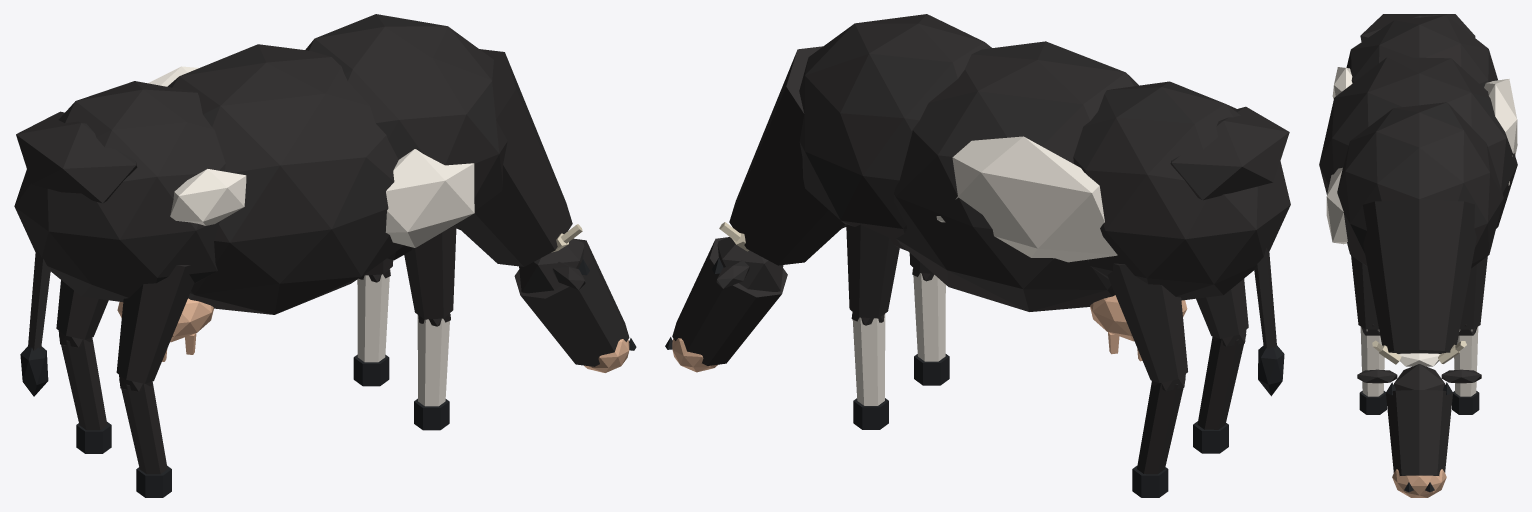
The model's file is ko_svart.glb.
3 views of the same model, side by side, from view 1: azimuth 30°, elevation 25°; view 2: azimuth 150°, elevation 25°; view 3: azimuth 270°, elevation 25° (orthographic). The views are drawn at different scales.
Parts seen in each view (by area): view 1: ko_svart; view 2: ko_svart; view 3: ko_svart.
Boxes of the visible parts, bbox=[...] form: ko_svart: bbox=[14, 14, 636, 497]; ko_svart: bbox=[665, 14, 1290, 497]; ko_svart: bbox=[1319, 14, 1517, 497].
Size of the model in its own units: 2.56 by 1.59 by 0.9446.
